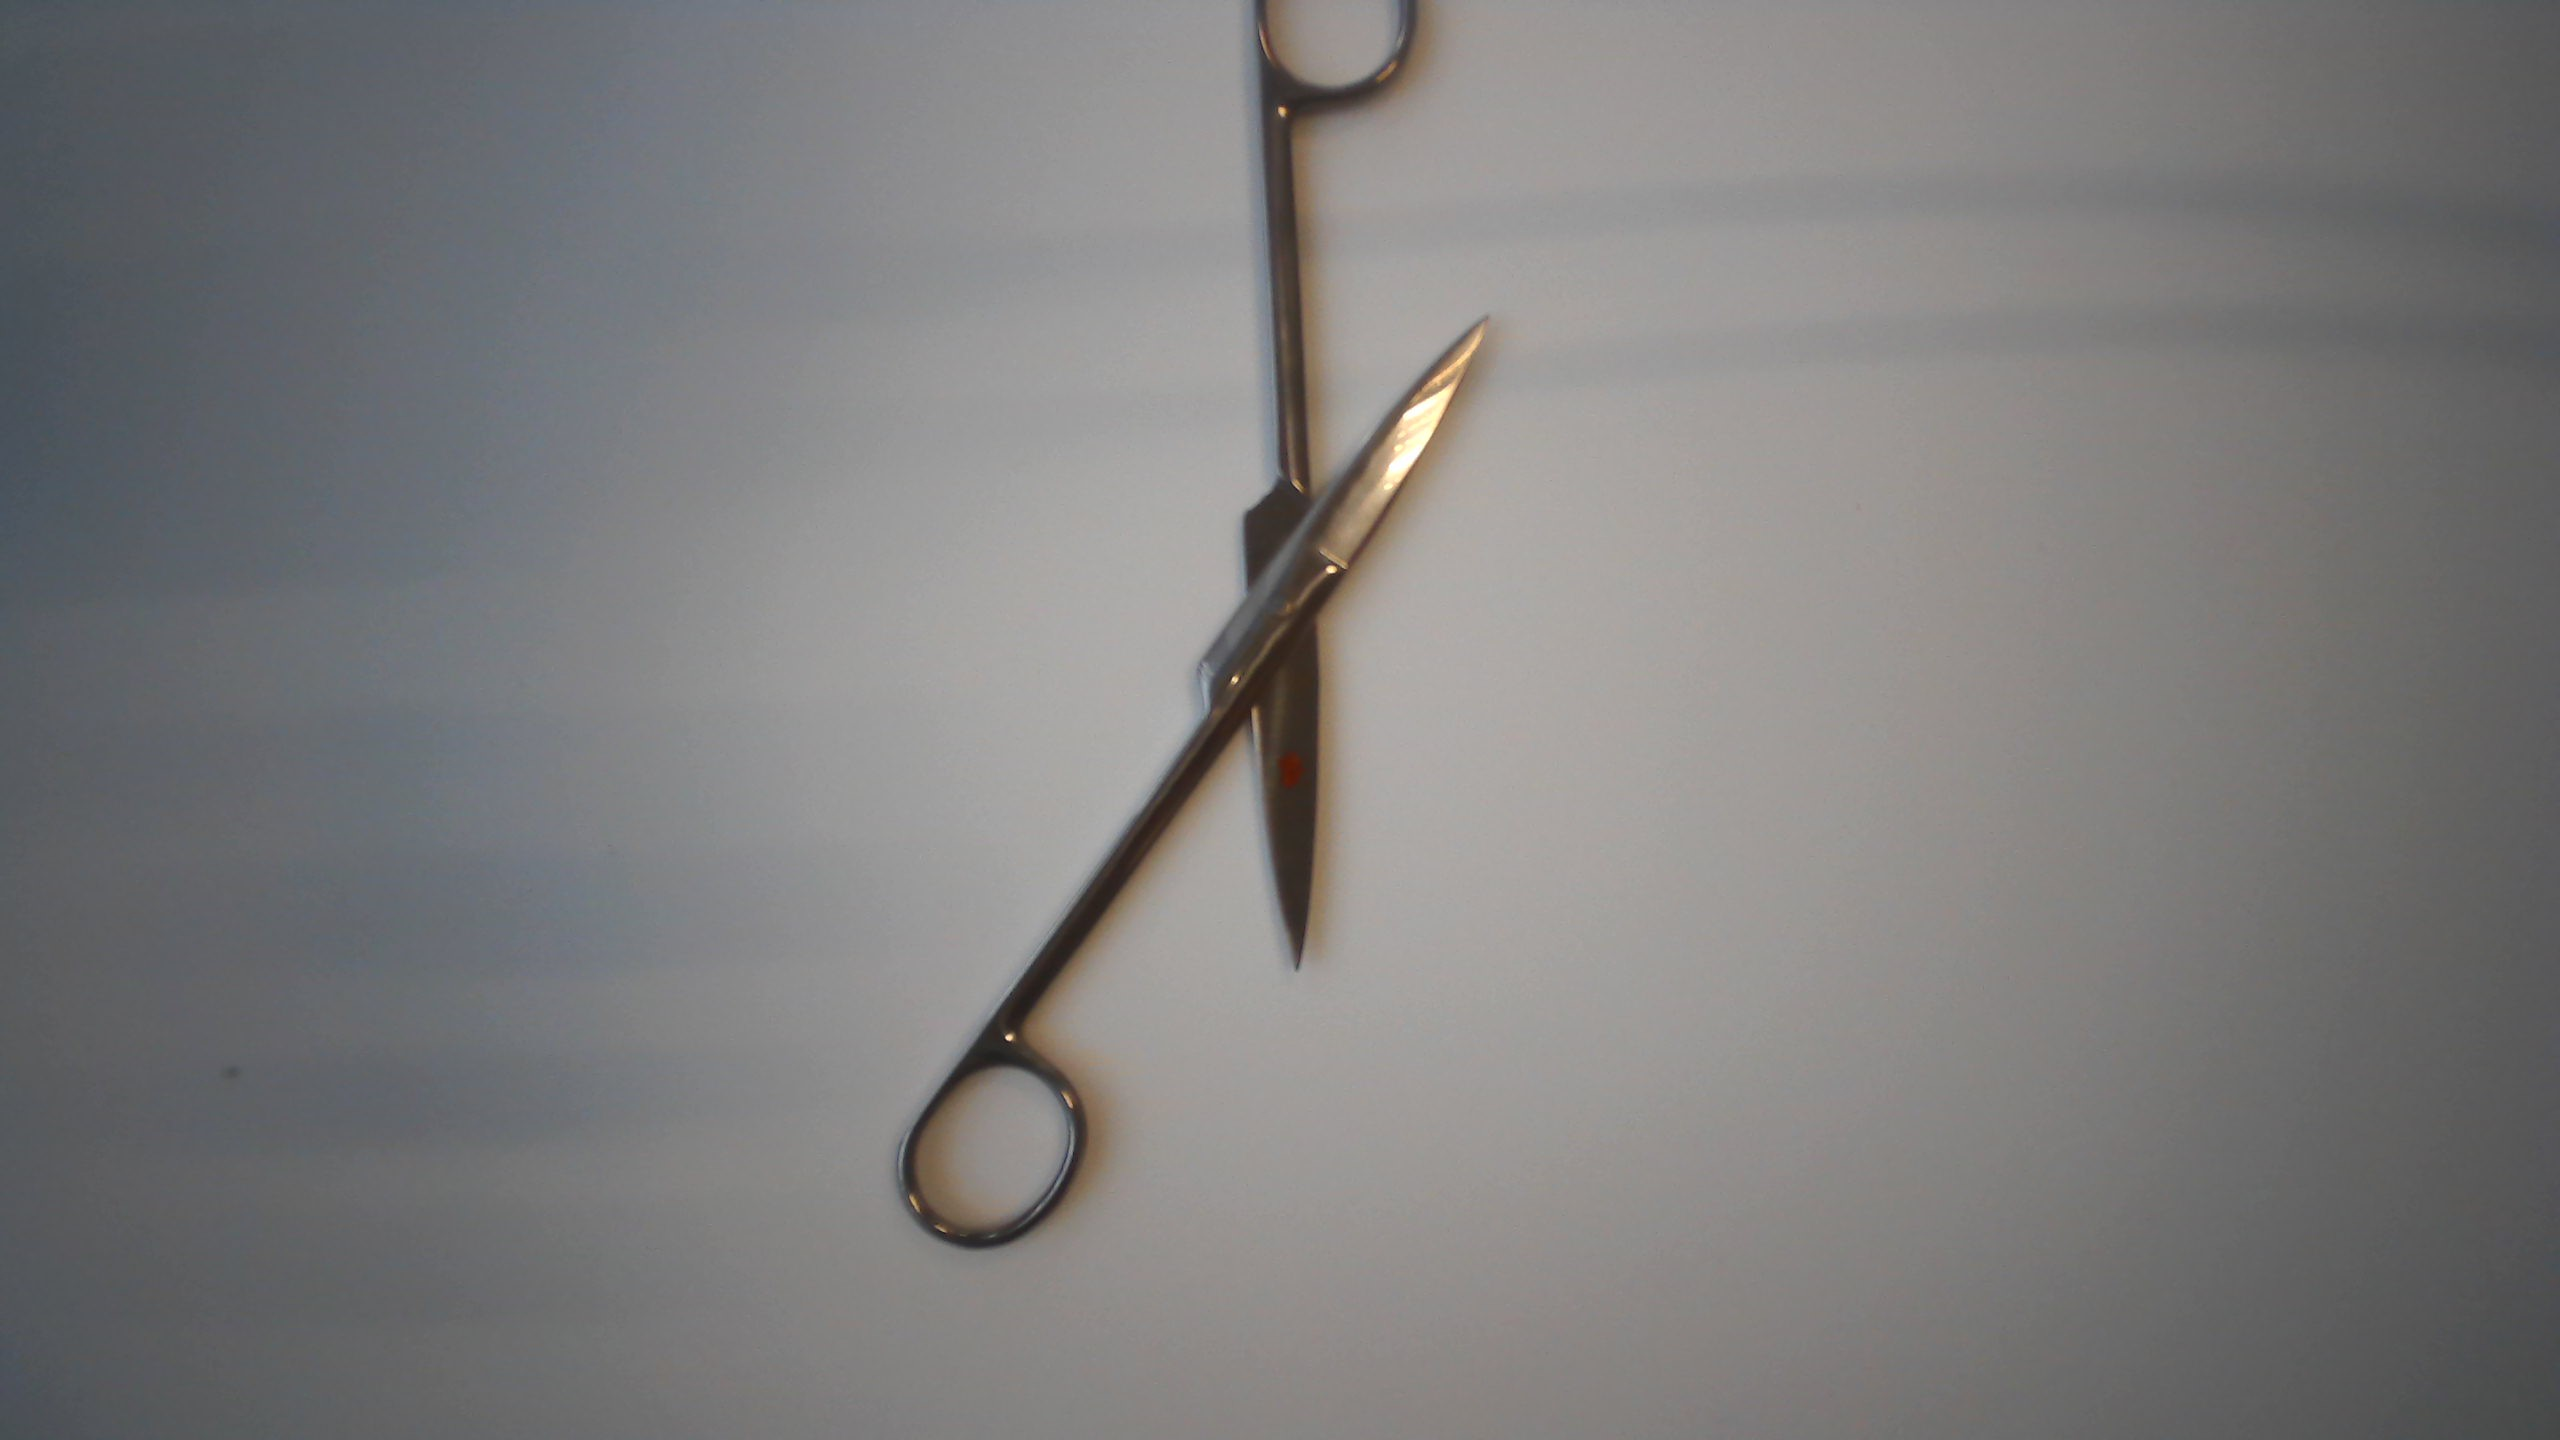Stain: (1266, 740, 1322, 800)
